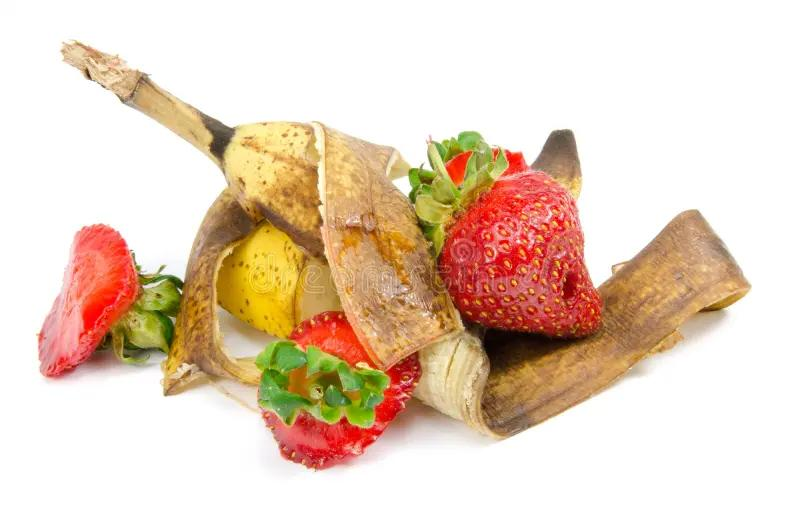organic: (58, 36, 753, 444), (408, 140, 606, 339), (256, 310, 425, 472), (36, 222, 184, 379)
